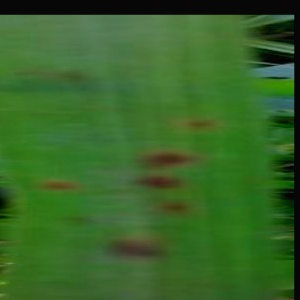Bacterial_Leaf_Blight: (94, 230, 179, 264), (129, 145, 203, 170), (127, 173, 188, 193), (50, 210, 101, 229), (48, 66, 93, 83), (40, 177, 80, 195), (182, 114, 219, 132), (154, 200, 191, 217)
